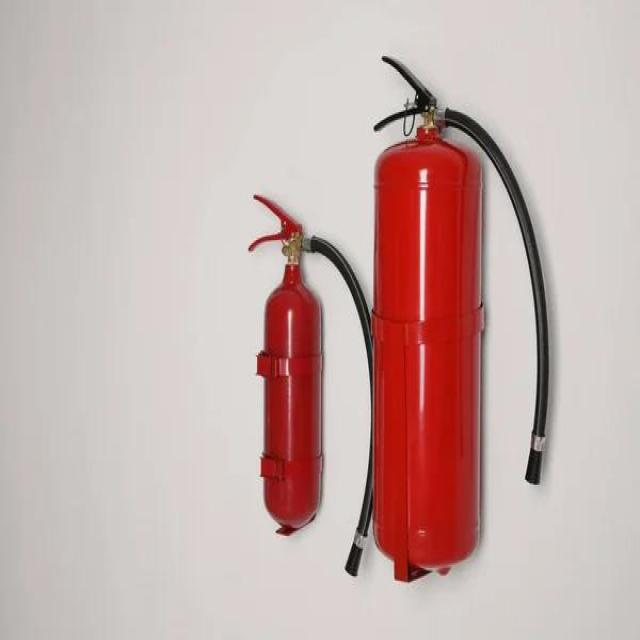fire_extinguisher: (365, 49, 552, 582), (244, 189, 383, 584)
